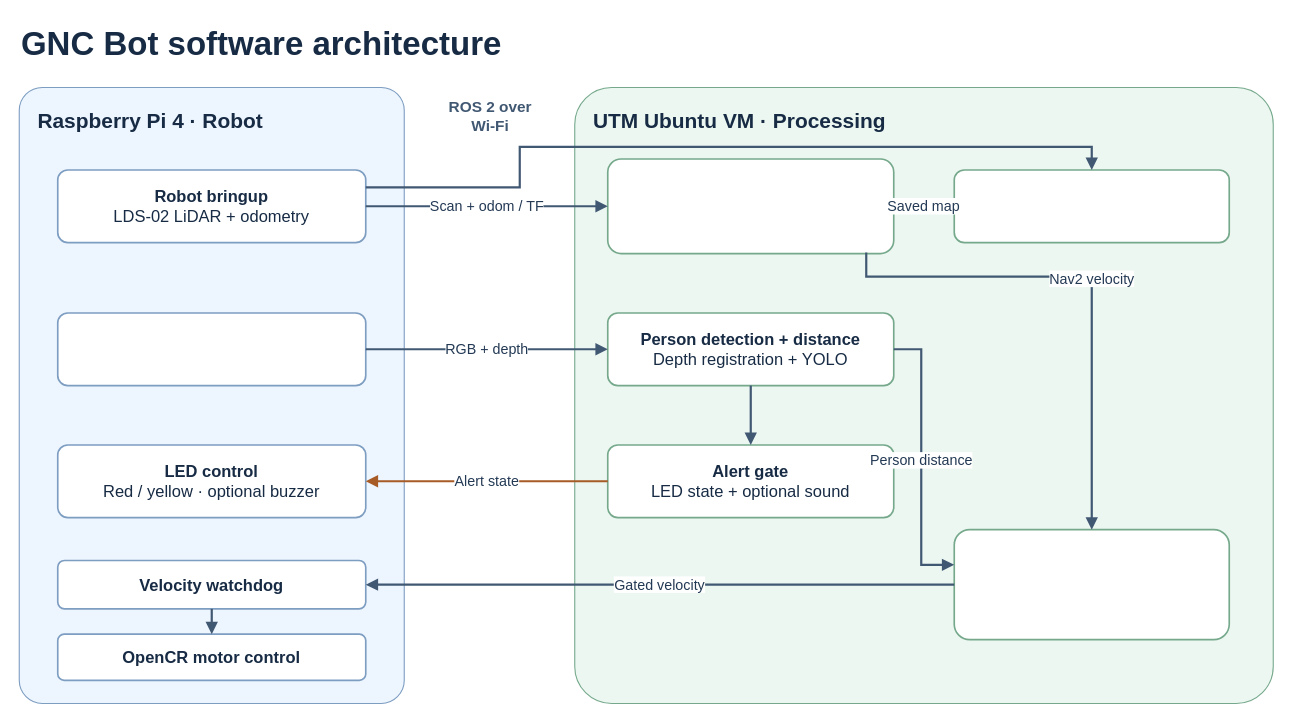
Some shapes in this 1293 by 723 pixel diagram are drawn without their labels. The shapes that lost their labels are listed below. From the top down, each one's centre as x and y in pixels, then its label:
At pixel 750 206: "Nav2 navigation AMCL + NavFn + MPPI RViz goals · saved map".
At pixel 1091 206: "SLAM Toolbox Mapping mode · save map".
At pixel 211 349: "RealSense L515 driver RGB + depth streams".
At pixel 1091 584: "Navigation velocity gate Stops for a detected person with valid depth ≤ 1 m".
